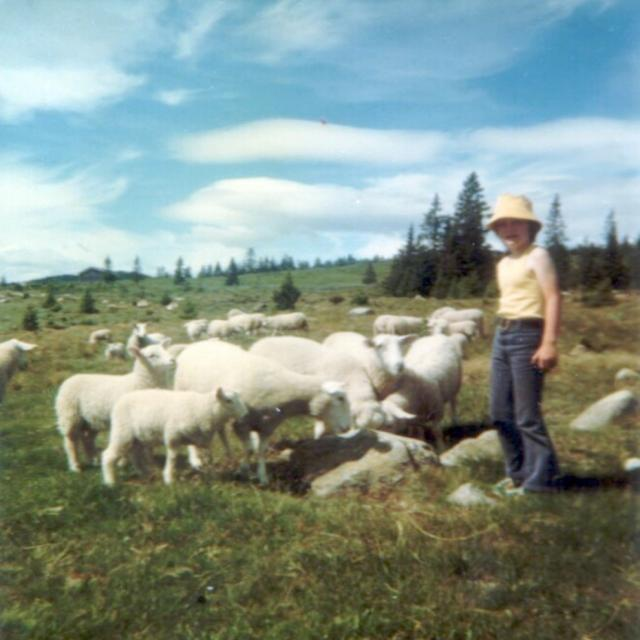Sheep: (0, 309, 484, 487)
